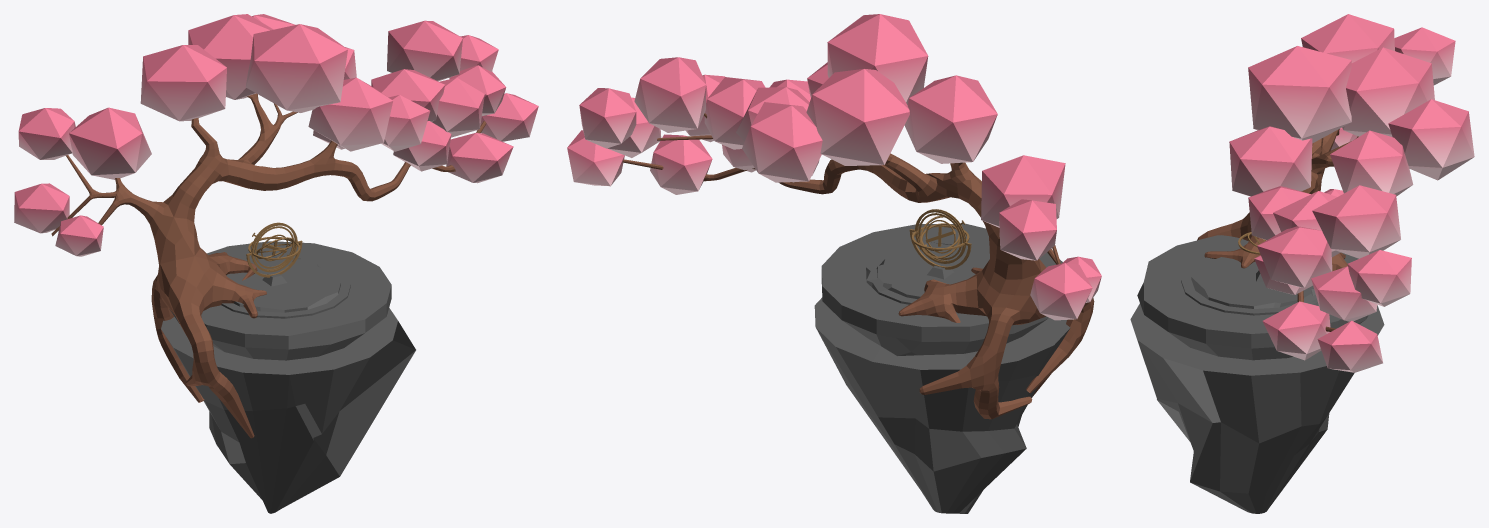
File: tree.gltf
3 views of the same model, side by side, from view 1: azimuth 30°, elevation 25°; view 2: azimuth 150°, elevation 25°; view 3: azimuth 270°, elevation 25° (orthographic). The views are drawn at different scales.
Visible parts, largest first — view 1: centerh, bigTree, 棱角球.041, 棱角球.024, 棱角球.026, 棱角球.031, 棱角球.036, 棱角球.029, 棱角球.039, 棱角球.023, 棱角球.012, 棱角球.035 (+7 smaller); view 2: centerh, bigTree, 棱角球.029, 棱角球.024, 棱角球.041, 棱角球.028, 棱角球.036, 棱角球.026, 棱角球.023, 棱角球.039, 棱角球.033, 棱角球.012 (+5 smaller); view 3: centerh, 棱角球.041, 棱角球.029, 棱角球.028, 棱角球.031, 棱角球.036, 棱角球.027, 棱角球.035, 棱角球.024, 棱角球.033, bigTree, 棱角球.039 (+7 smaller).
Part boxes in pixels (x1,y1,x2,y2): centerh: (161, 241, 415, 513); bigTree: (51, 93, 486, 438); 棱角球.041: (246, 24, 347, 112); 棱角球.024: (140, 45, 226, 121); 棱角球.026: (69, 107, 151, 179); 棱角球.031: (308, 77, 392, 151); 棱角球.036: (387, 20, 462, 81); 棱角球.029: (188, 14, 273, 99); 棱角球.039: (446, 132, 513, 183); 棱角球.023: (18, 108, 75, 159); 棱角球.012: (14, 183, 69, 233); 棱角球.035: (432, 77, 484, 137); centerh: (814, 223, 1070, 513); bigTree: (622, 113, 1094, 419); 棱角球.029: (806, 69, 909, 165); 棱角球.024: (904, 75, 997, 163); 棱角球.041: (827, 14, 928, 104); 棱角球.028: (742, 102, 822, 182); 棱角球.036: (634, 57, 706, 132); 棱角球.026: (981, 155, 1065, 227); 棱角球.023: (999, 199, 1056, 260); 棱角球.039: (650, 134, 712, 194); 棱角球.033: (579, 88, 636, 148); 棱角球.012: (1030, 263, 1092, 320); centerh: (1130, 235, 1384, 513); 棱角球.041: (1248, 46, 1351, 143); 棱角球.029: (1342, 47, 1434, 136); 棱角球.028: (1388, 99, 1474, 180); 棱角球.031: (1229, 126, 1312, 196); 棱角球.036: (1312, 185, 1400, 258); 棱角球.027: (1330, 130, 1413, 196); 棱角球.035: (1257, 226, 1332, 287); 棱角球.024: (1301, 14, 1394, 62); 棱角球.033: (1347, 250, 1411, 306); bigTree: (1197, 129, 1358, 331); 棱角球.039: (1262, 301, 1330, 360).
Bounding box in the file's own units: 25.31 × 22.53 × 14.36.
4 materials, 1 textured.
